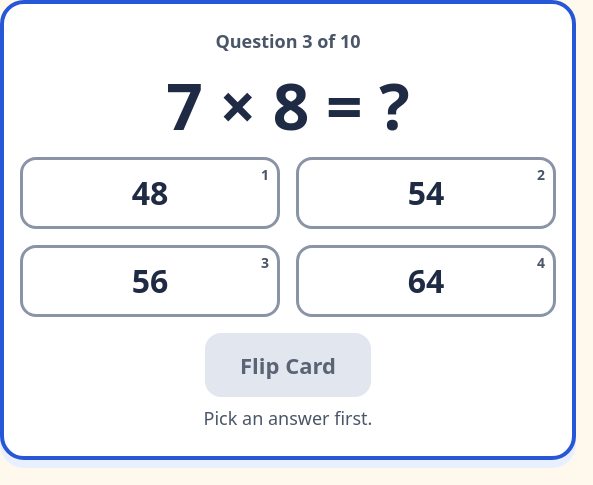
it: flipping › reveals the question, correct answer and selected answer
Click the button "54 2" at [426, 193], box top-left (296, 157), bottom-right (556, 229)
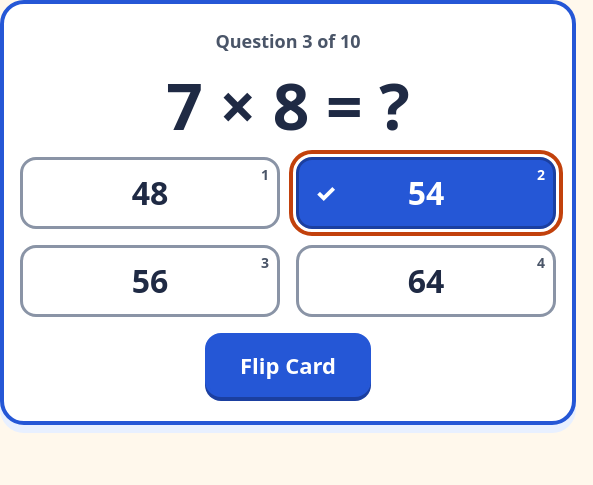
Click the button "Flip Card" at [288, 365], box top-left (205, 333), bottom-right (371, 397)
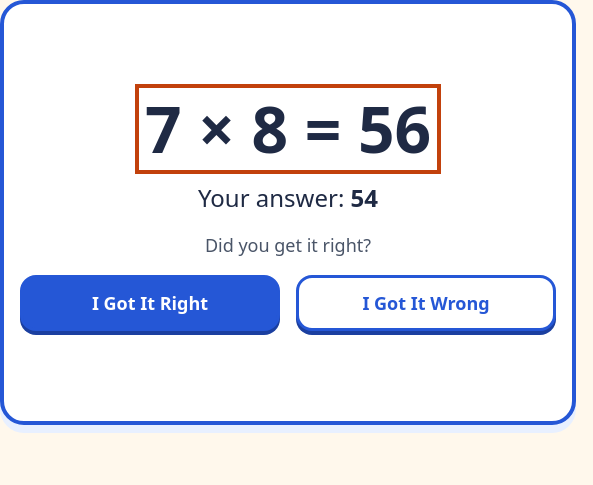
Check: the heading named "7 times 8 equals 56" is shown, box top-left (145, 94), bottom-right (431, 164)
Check: the text "7 × 8 = 56" is shown, box top-left (145, 85), bottom-right (431, 172)
Check: the text "Your answer: 54" is shown, box top-left (198, 180), bottom-right (378, 216)
